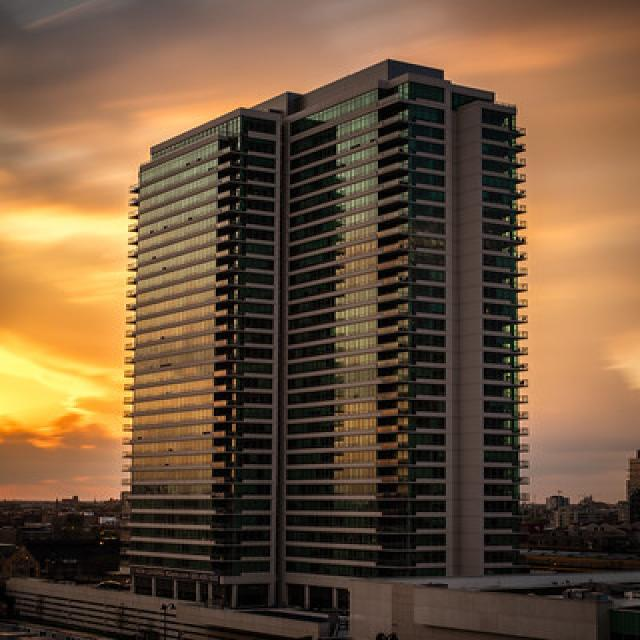Normal_building: (117, 51, 539, 613)
